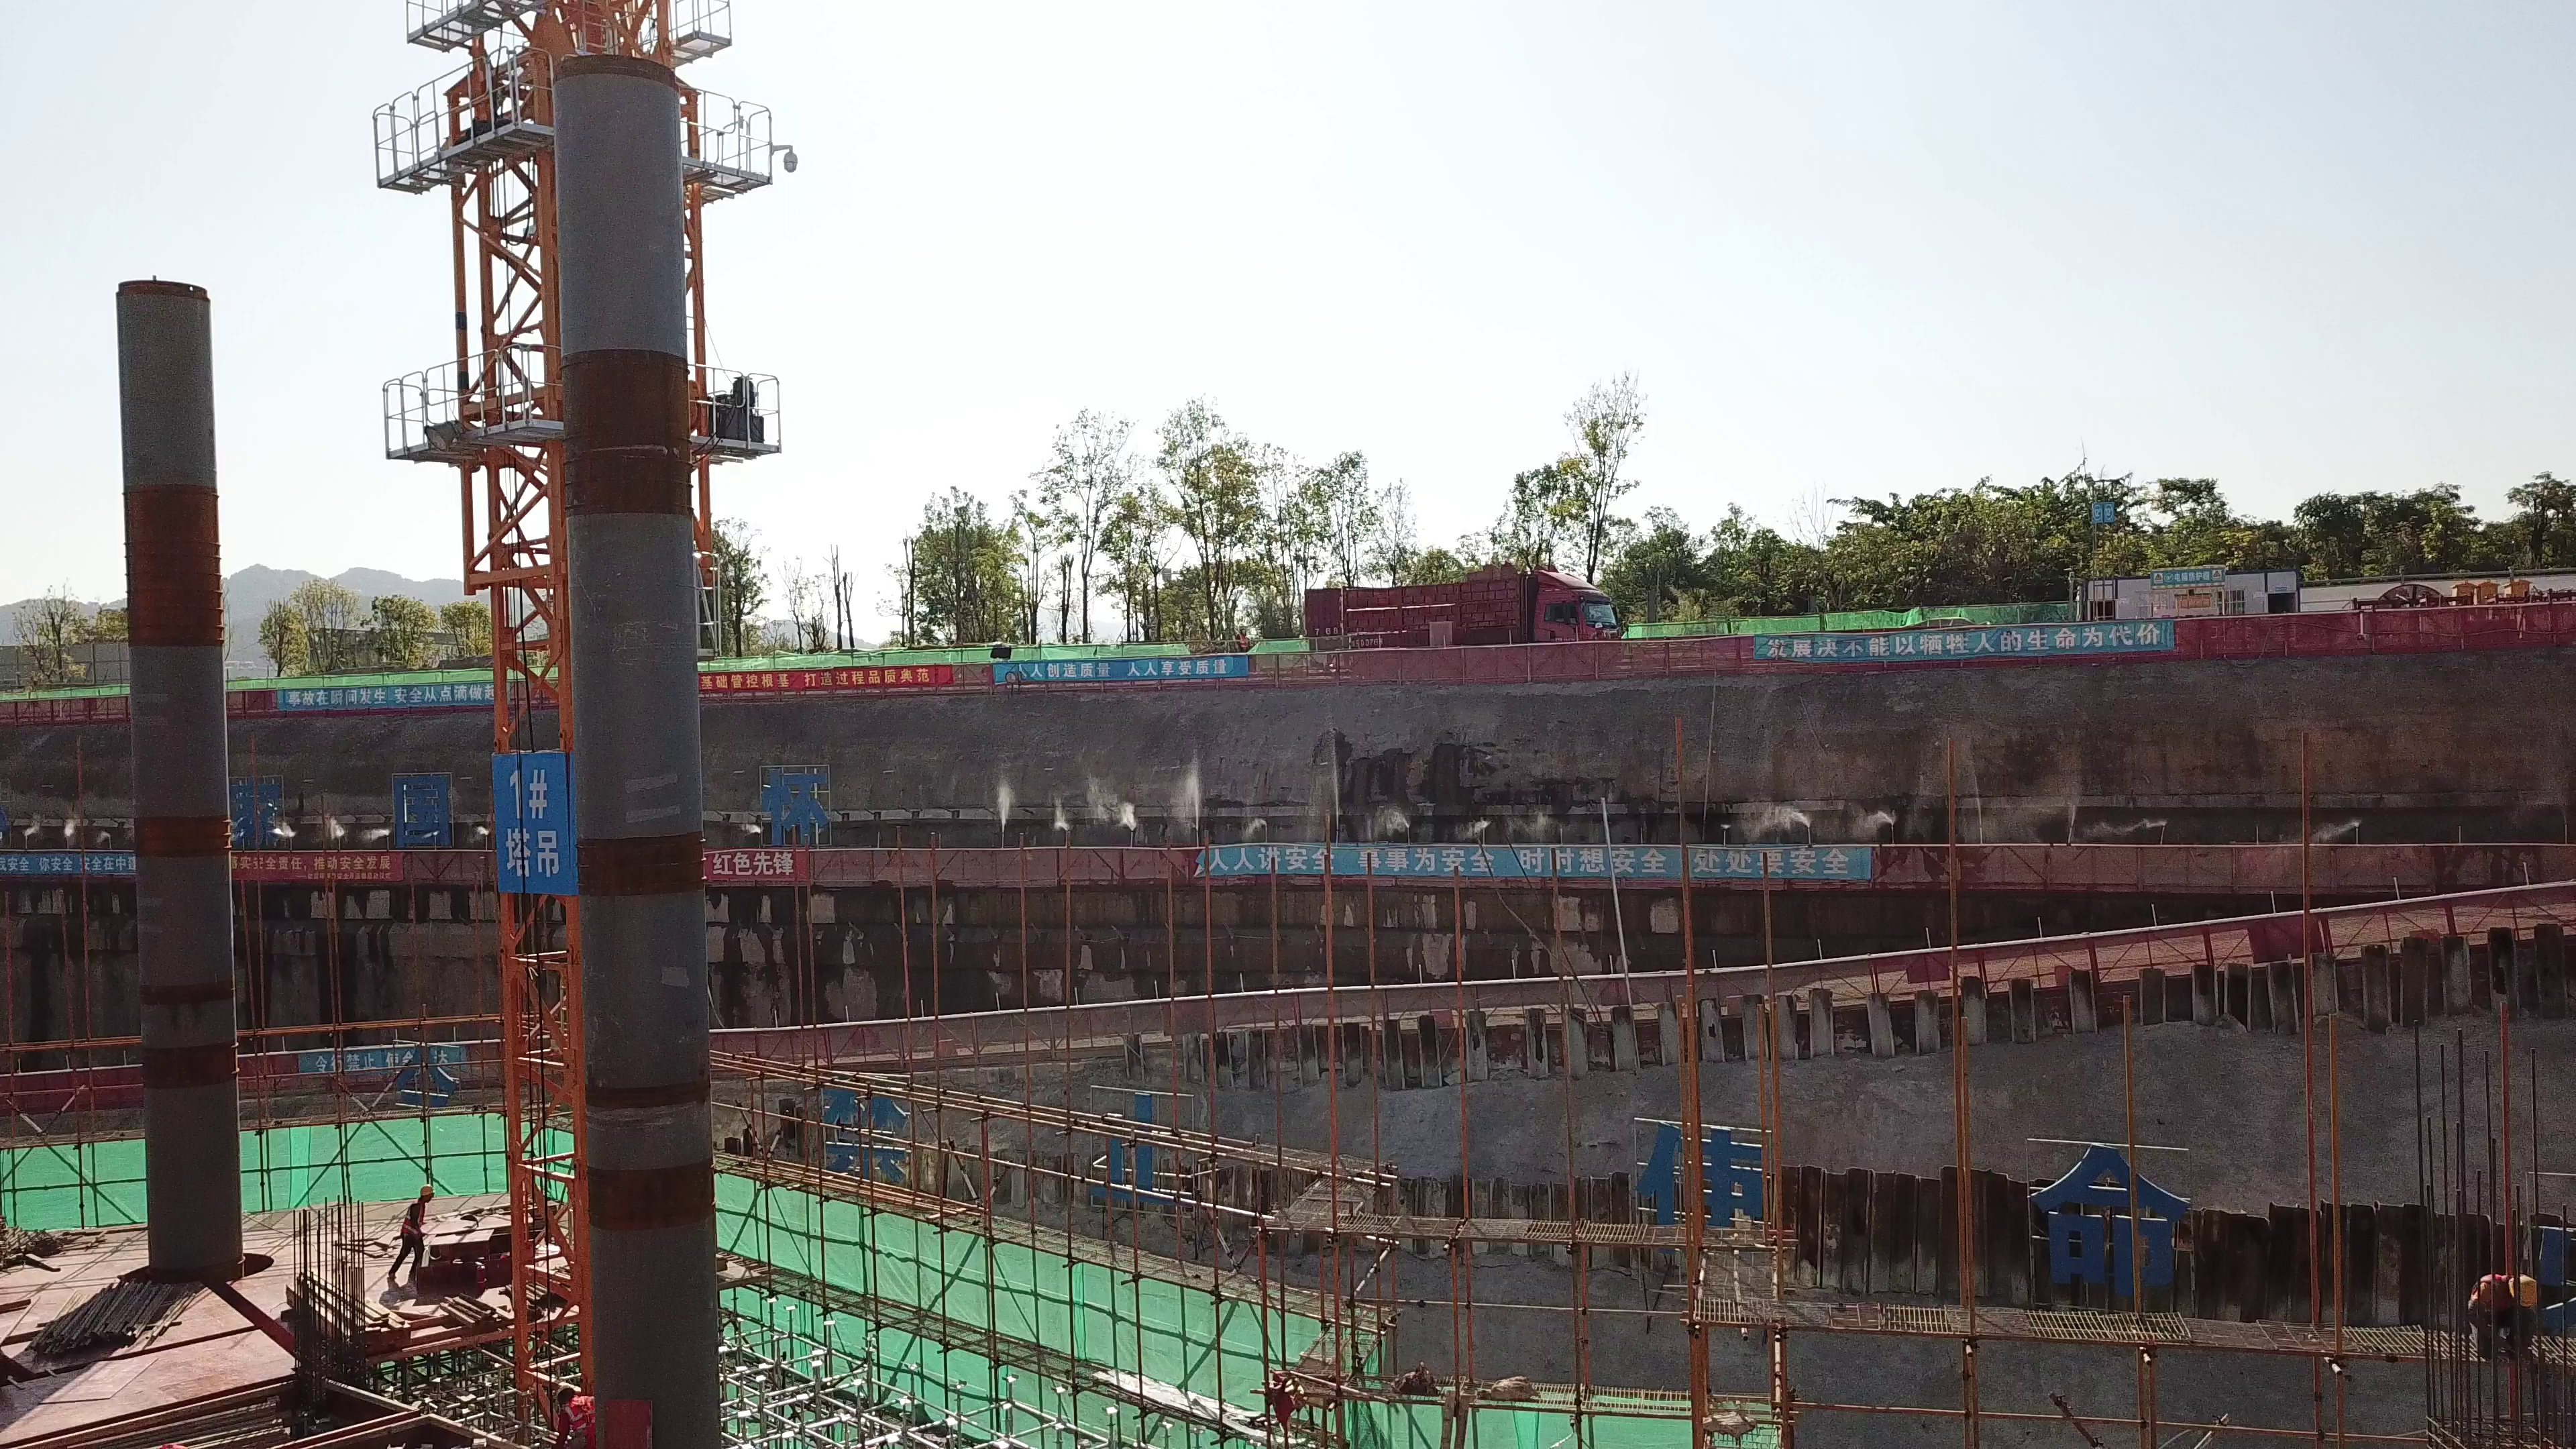fence: (1872, 837, 2442, 894), (2180, 598, 2569, 667), (1257, 636, 1752, 684), (1481, 963, 1771, 1024), (820, 844, 1197, 890), (1207, 977, 1481, 1036)
helmet: (2512, 1274, 2544, 1306), (417, 1183, 435, 1197)
person: (2457, 1265, 2552, 1365), (381, 1185, 441, 1293), (549, 1379, 613, 1447)
slogan: (1195, 832, 1870, 883), (1752, 625, 2176, 661), (702, 651, 959, 696), (984, 653, 1252, 685), (276, 682, 498, 711), (234, 849, 407, 883), (706, 843, 821, 888), (305, 1042, 462, 1073), (2, 851, 139, 872)
vest: (2465, 1266, 2517, 1316), (399, 1203, 425, 1234)
